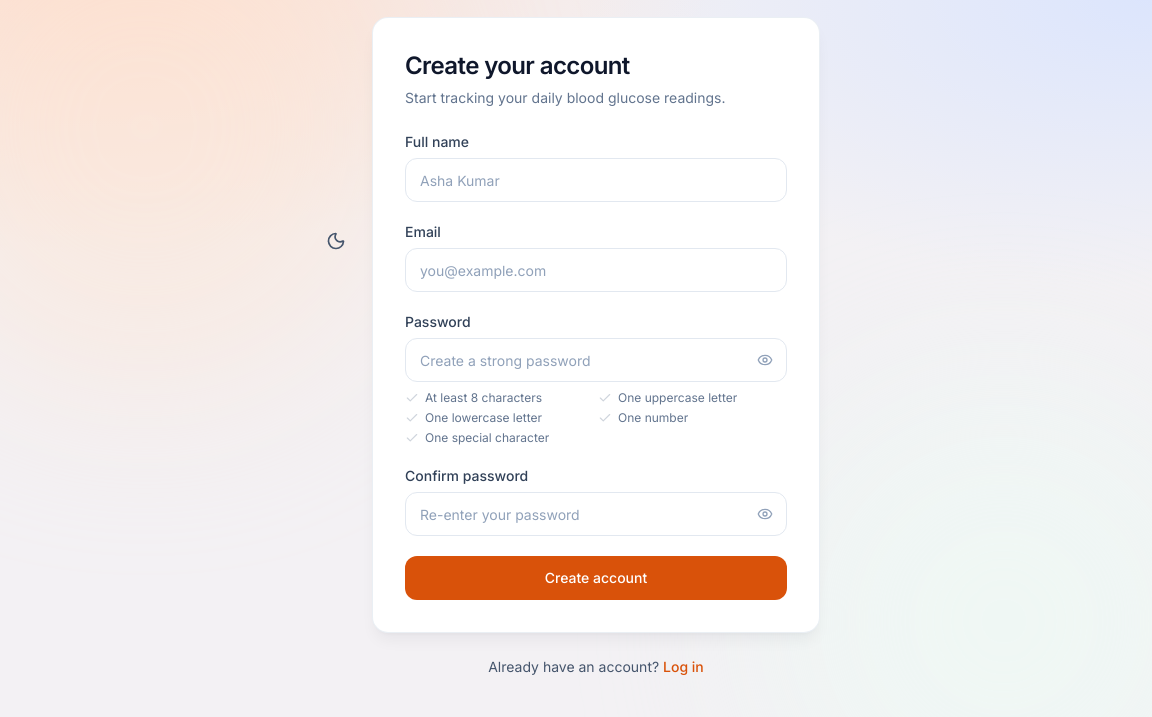
Test case: Register page › requires every field
This screenshot has width=1152, height=717.
(page scrolled)
Click the button "Create account". click: (596, 578)
box: [405,556,787,600]
(page scrolled)
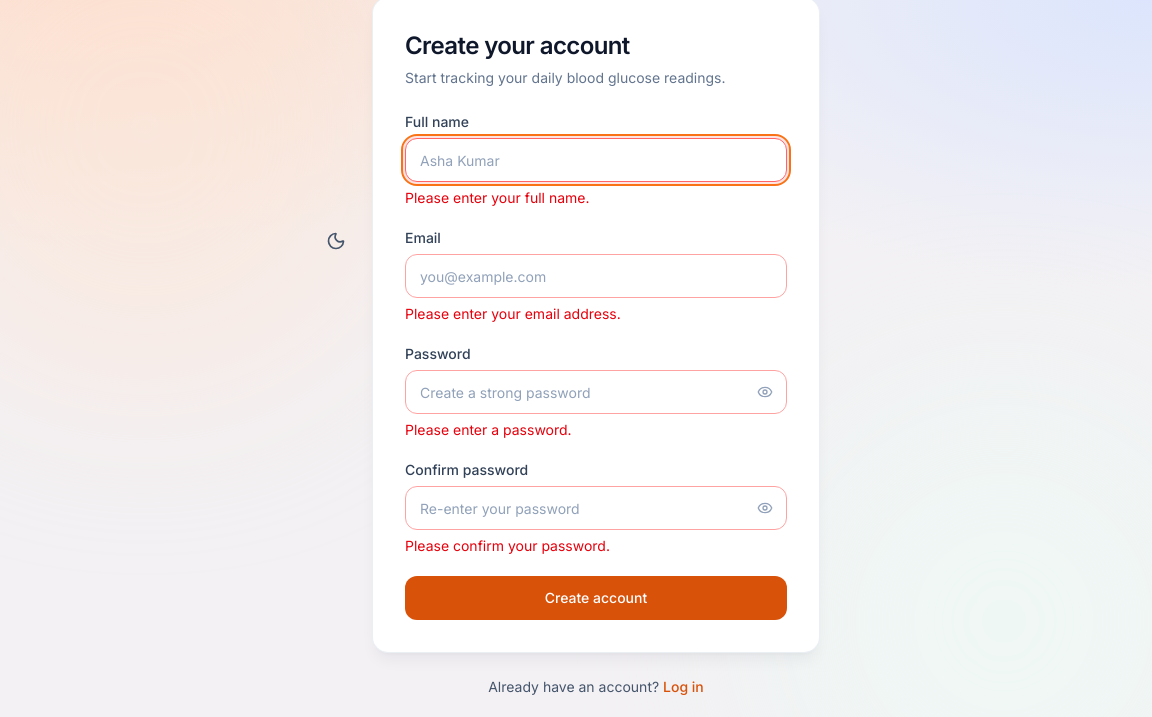
Result: the text "Please enter your full name." is shown at [405,189,590,206]
Result: the text "Please enter your email address." is shown at [405,305,621,322]
Result: the text "Please enter a password." is shown at [405,421,572,438]
